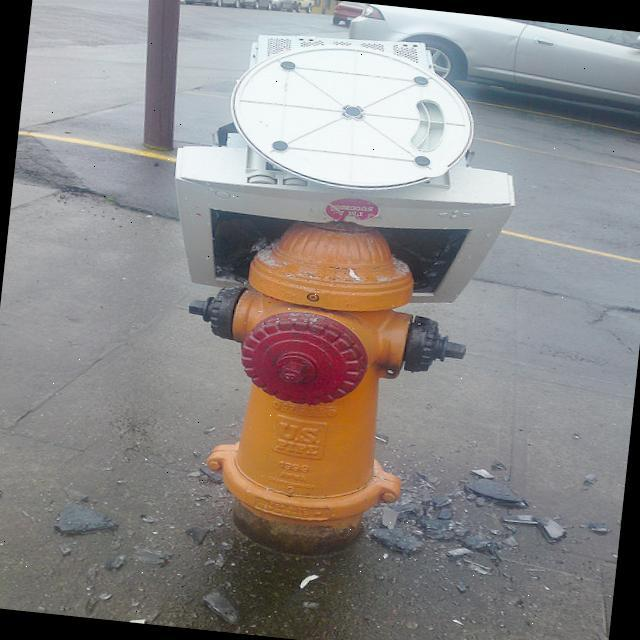fire_hydrant: (158, 209, 486, 570)
